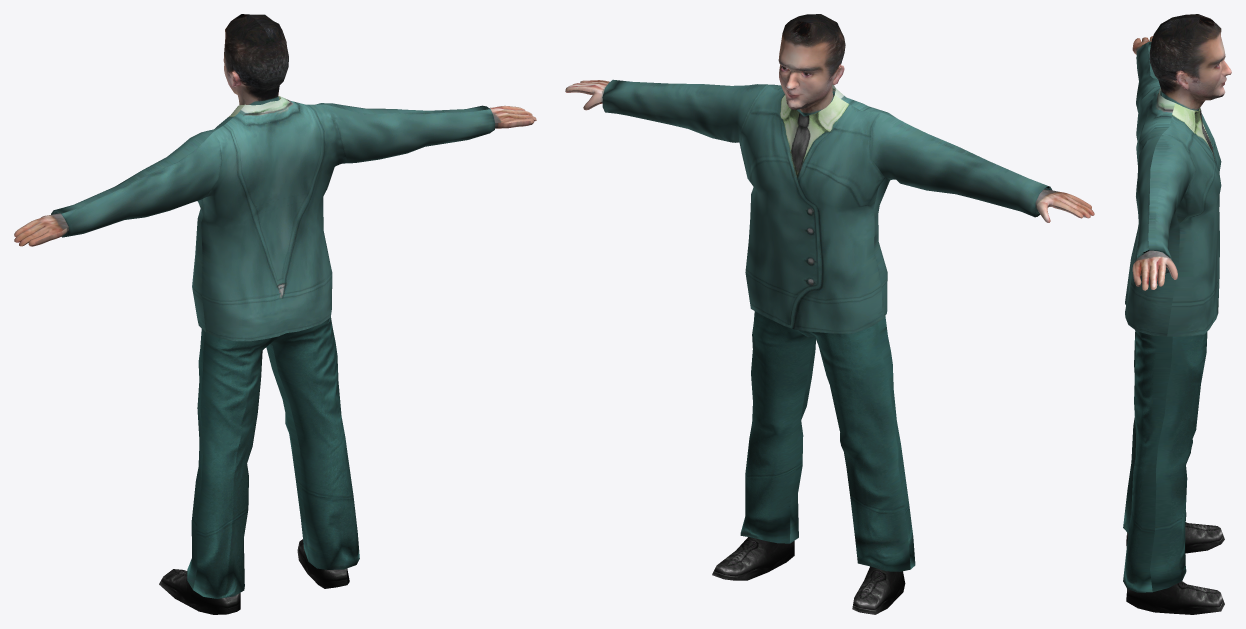
File: civ_male05.glb
3 views of the same model, side by side, from view 1: azimuth 30°, elevation 25°; view 2: azimuth 150°, elevation 25°; view 3: azimuth 270°, elevation 25° (orthographic).
Parts seen in each view (by area): view 1: cman0005-t; view 2: cman0005-t; view 3: cman0005-t.
Boxes of the visible parts, x1=… form: cman0005-t: x1=14, y1=14, x2=536, y2=614; cman0005-t: x1=565, y1=14, x2=1094, y2=614; cman0005-t: x1=1123, y1=14, x2=1231, y2=614.
Size of the model in its own units: 91.14 by 94.59 by 16.71.
Materials: 1 (1 with a texture image).
